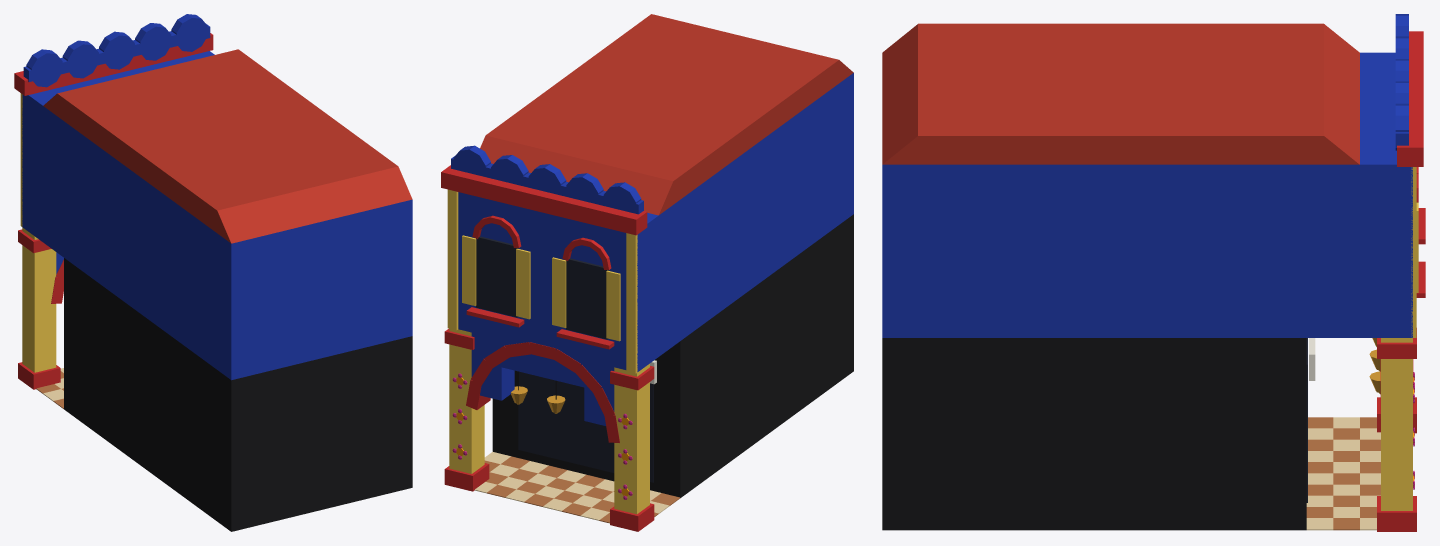
The model's file is env_bf_shopfront_blue.fbx.
3 renders of one model, left to right at view 1: azimuth 30°, elevation 25°; view 2: azimuth 150°, elevation 25°; view 3: azimuth 270°, elevation 25°, orthographic. The views are drawn at different scales.
Visible parts, largest first — view 1: env_bf_shopfront_blue_geo_LOD0, COL_env_bf_shopfront_blue; view 2: env_bf_shopfront_blue_geo_LOD0, COL_env_bf_shopfront_blue; view 3: env_bf_shopfront_blue_geo_LOD0, COL_env_bf_shopfront_blue.
Boxes of the visible parts, x1,y1,x2,y2 form: env_bf_shopfront_blue_geo_LOD0: (14, 14, 412, 408); COL_env_bf_shopfront_blue: (64, 258, 412, 531); env_bf_shopfront_blue_geo_LOD0: (441, 14, 853, 531); COL_env_bf_shopfront_blue: (492, 214, 853, 497); env_bf_shopfront_blue_geo_LOD0: (882, 14, 1425, 531); COL_env_bf_shopfront_blue: (882, 338, 1306, 530).
Size of what is drawn, in the model's own units: 5.2 by 8.6 by 10.24.
